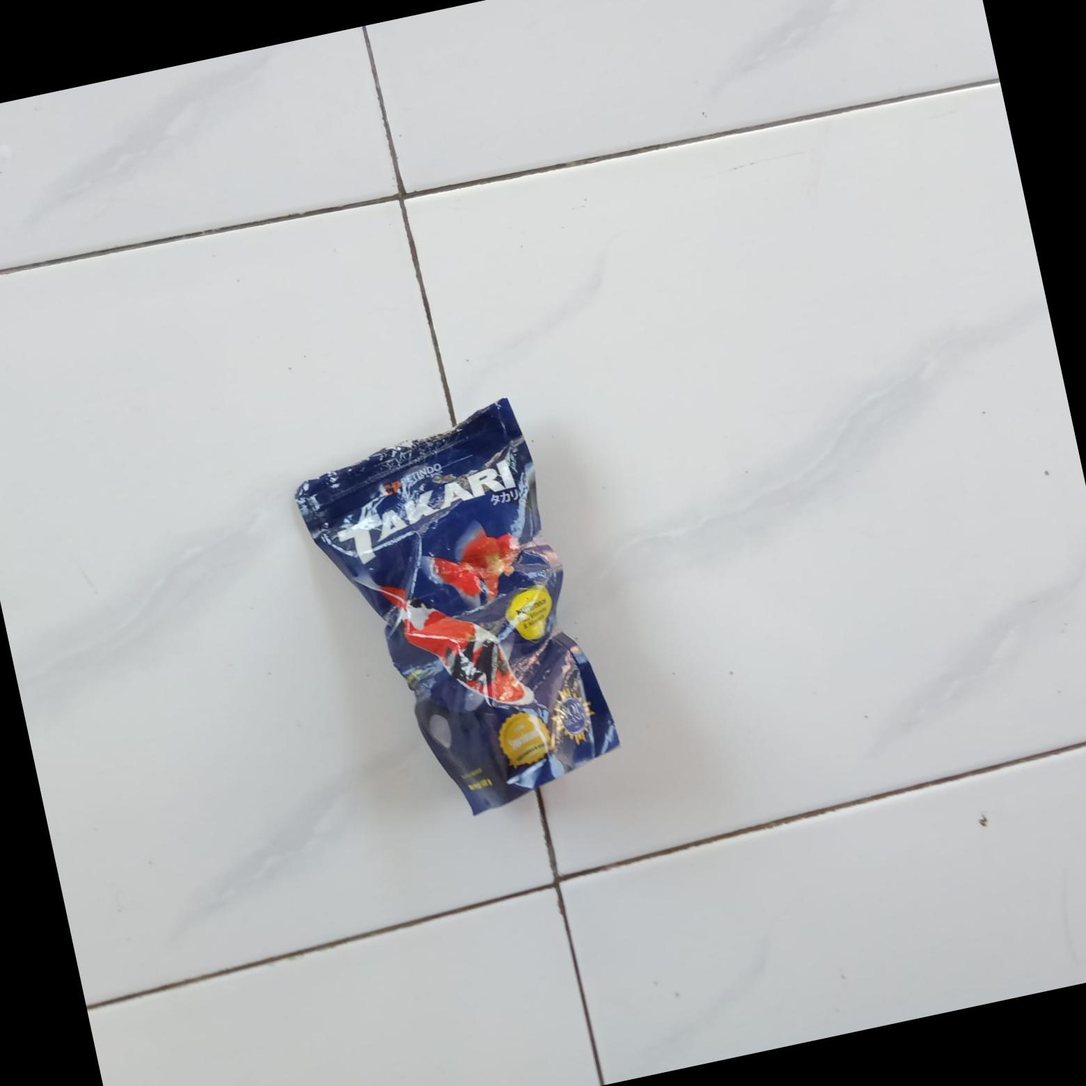Plastik: (283, 388, 631, 839)
